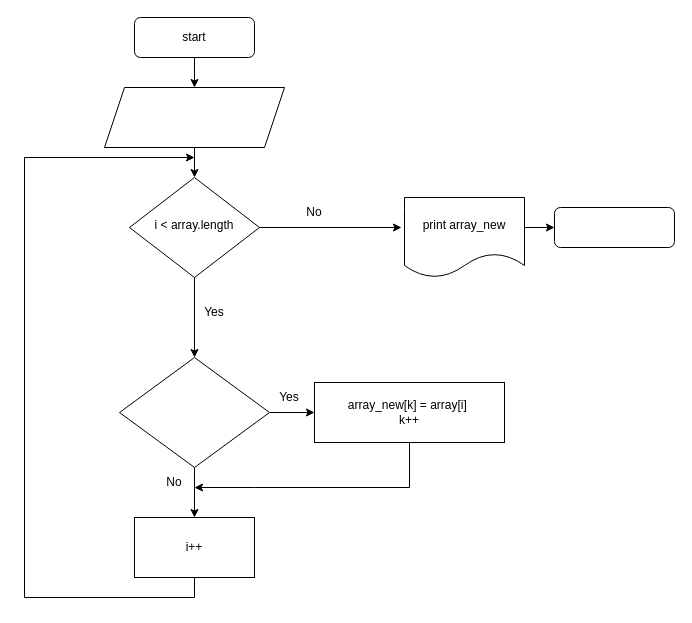
Some shapes in this 692 by 623 pixel diagram are drawn without their labels. The shapes that lost their labels are listed below. From the top down, each one's centre as x and y in pixels, then its label:
At (x=194, y=117): "array type string array_new type string int i = 0 int k =0".
At (x=614, y=227): "finish".
At (x=194, y=412): "array[i].length <=3".
